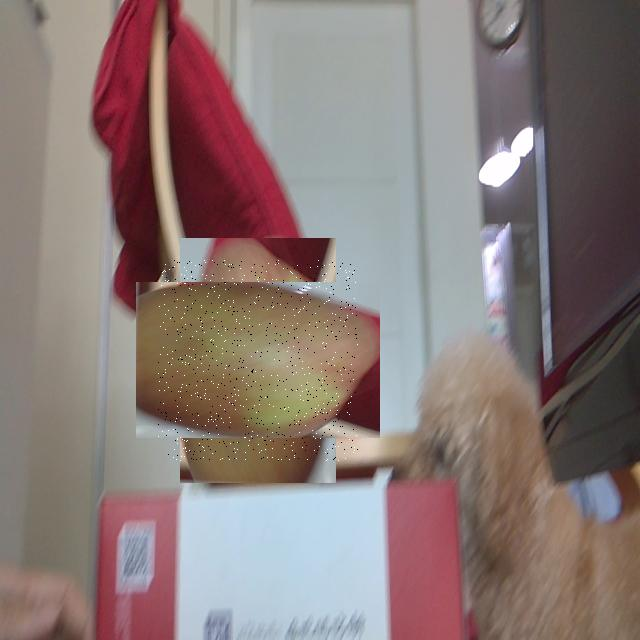apple: (158, 260, 358, 461)
